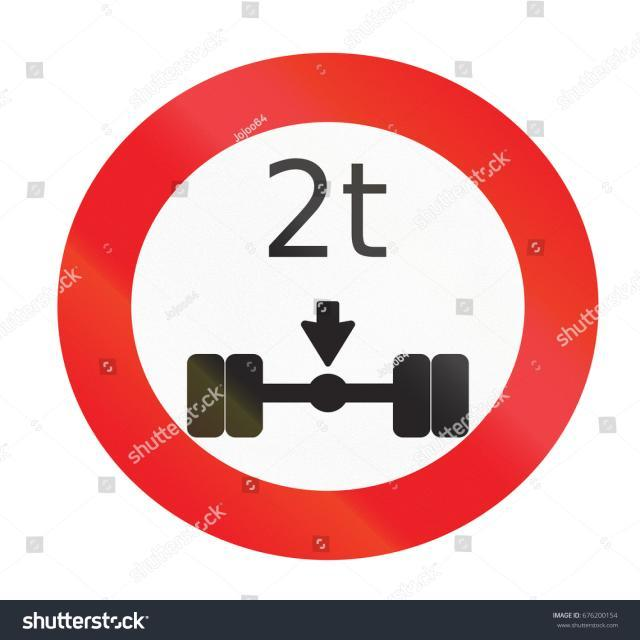axle load limit: (56, 51, 599, 545)
